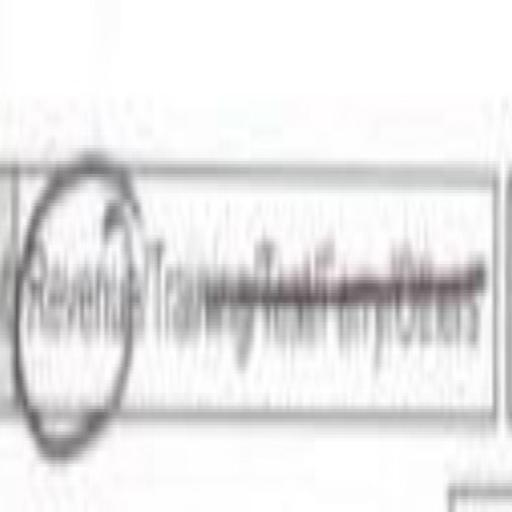check: (11, 112, 137, 478)
